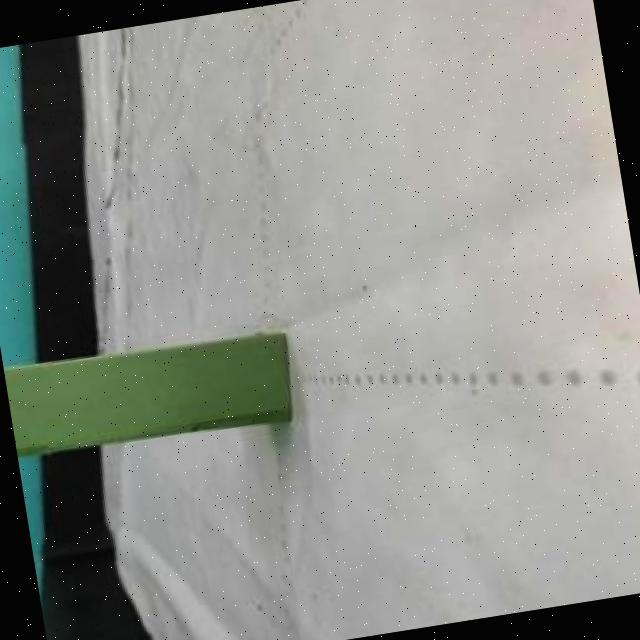greenbox: (4, 328, 297, 461)
